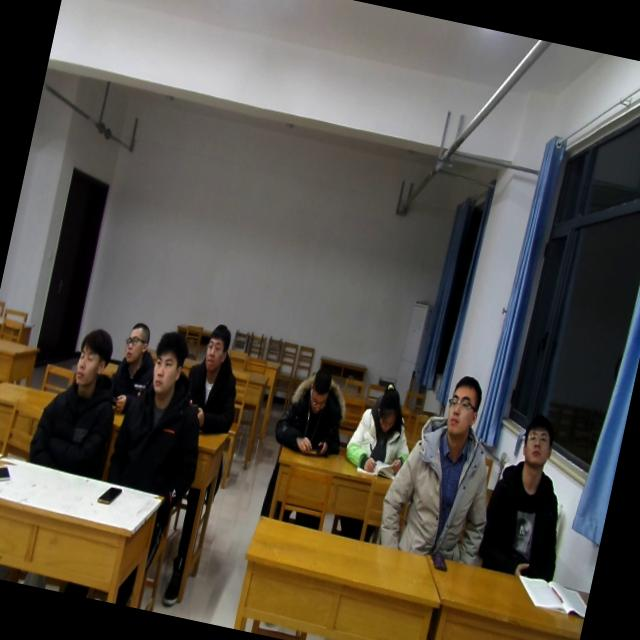down: (368, 378, 408, 436), (301, 358, 339, 418)
lookup: (142, 322, 194, 398), (66, 320, 118, 393), (435, 368, 486, 442), (513, 410, 561, 473), (194, 319, 233, 379), (115, 316, 154, 368)
sit: (373, 358, 514, 571), (104, 320, 220, 500), (473, 404, 588, 583), (24, 314, 132, 480), (270, 352, 356, 462), (178, 317, 255, 432), (343, 373, 419, 478), (106, 312, 157, 391)
